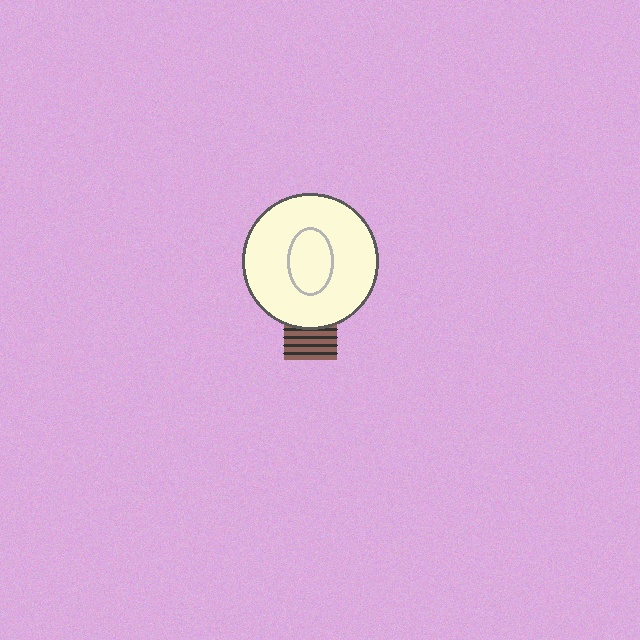bulb: (238, 189, 382, 364)
